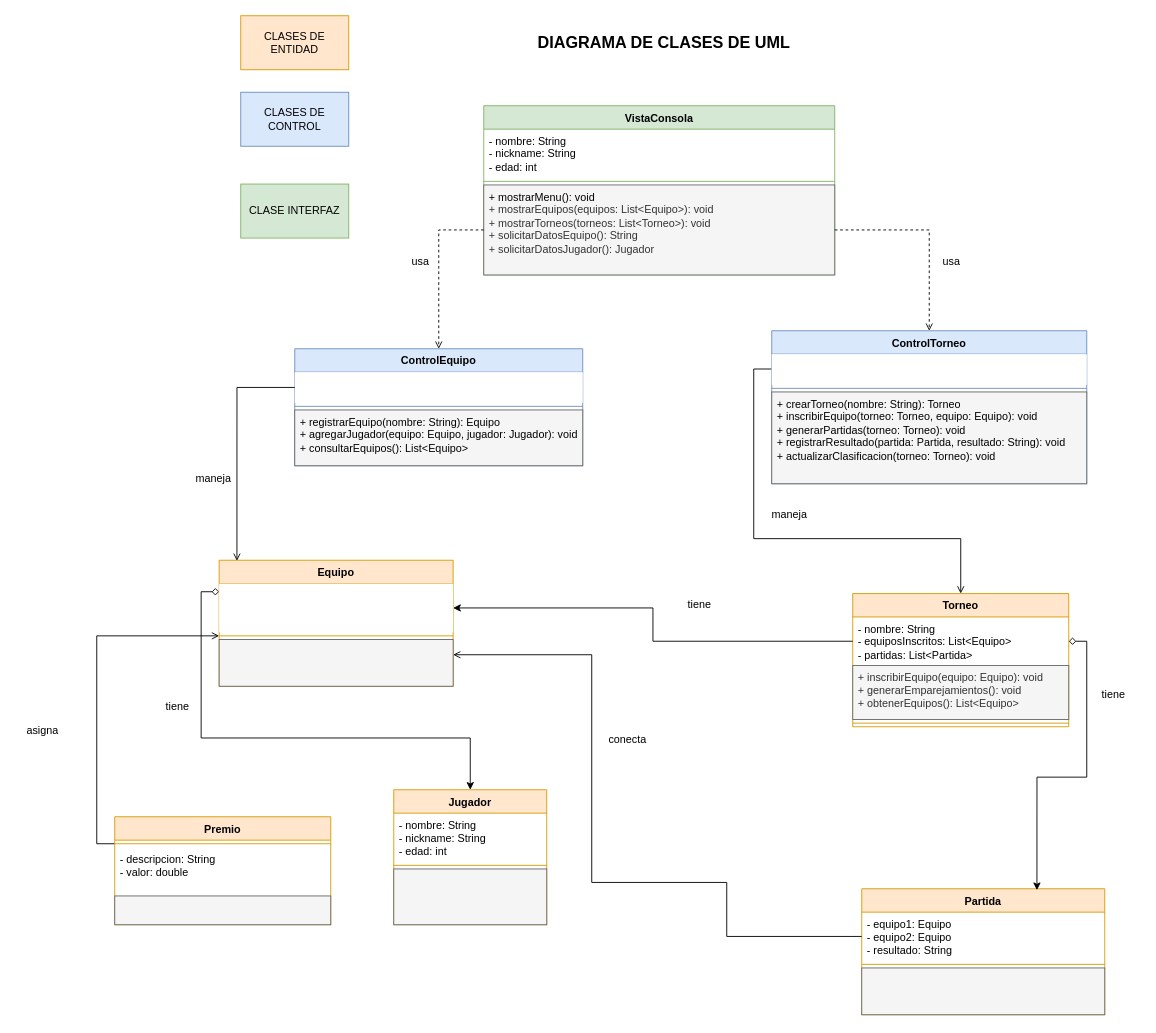
The diagram is 1156 pixels wide and 1033 high, and some of its shapes have lost their labels. The centre of each missing label's shape, as x and y in pixels:
"+ agregarJugador(jugador: Jugador): void + obtenerJugadores(): List<Jugador>" goes at pixel 335 662.
"+ asignarAGanador(equipo: Equipo): void" goes at pixel 222 910.
"+ obtenerNombre(): String + obtenerNickname(): String + obtenerEdad(): int" goes at pixel 470 896.
"+ registrarResultado(resultado: String): void + obtenerResultado(): String" goes at pixel 983 991.
"- equipos: List<Equipos>" goes at pixel 438 387.
"- nombre: String - listaJugadores: List<Jugador>" goes at pixel 336 607.
"torneos: List<Torneo>" goes at pixel 928 369.
